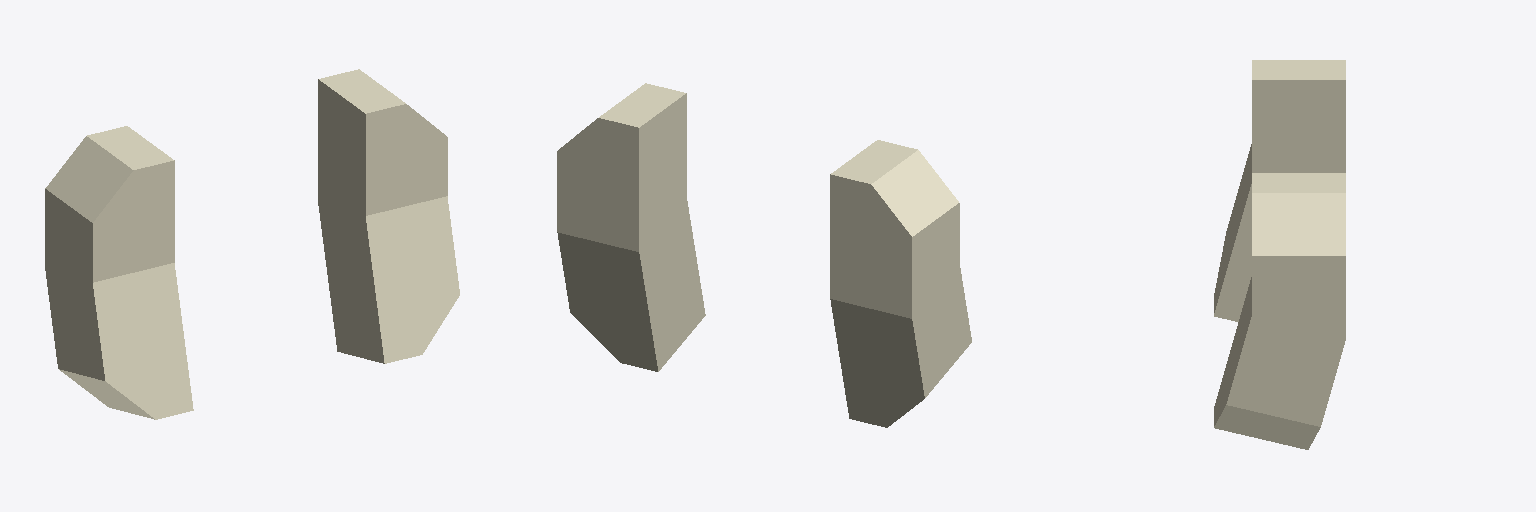
The model's file is ghost.obj.
3 renders of one model, left to right at view 1: azimuth 30°, elevation 25°; view 2: azimuth 150°, elevation 25°; view 3: azimuth 270°, elevation 25°, orthographic.
Parts seen in each view (by area): view 1: armRight, armLeft; view 2: armLeft, armRight; view 3: armLeft, armRight.
Boxes of the visible parts, x1,y1,x2,y2 form: armRight: [45, 126, 193, 419]; armLeft: [318, 69, 459, 363]; armLeft: [557, 83, 705, 371]; armRight: [830, 140, 971, 427]; armLeft: [1214, 173, 1345, 449]; armRight: [1214, 60, 1345, 321].
Bounding box in the file's own units: 0.4832 × 0.3363 × 0.1567.